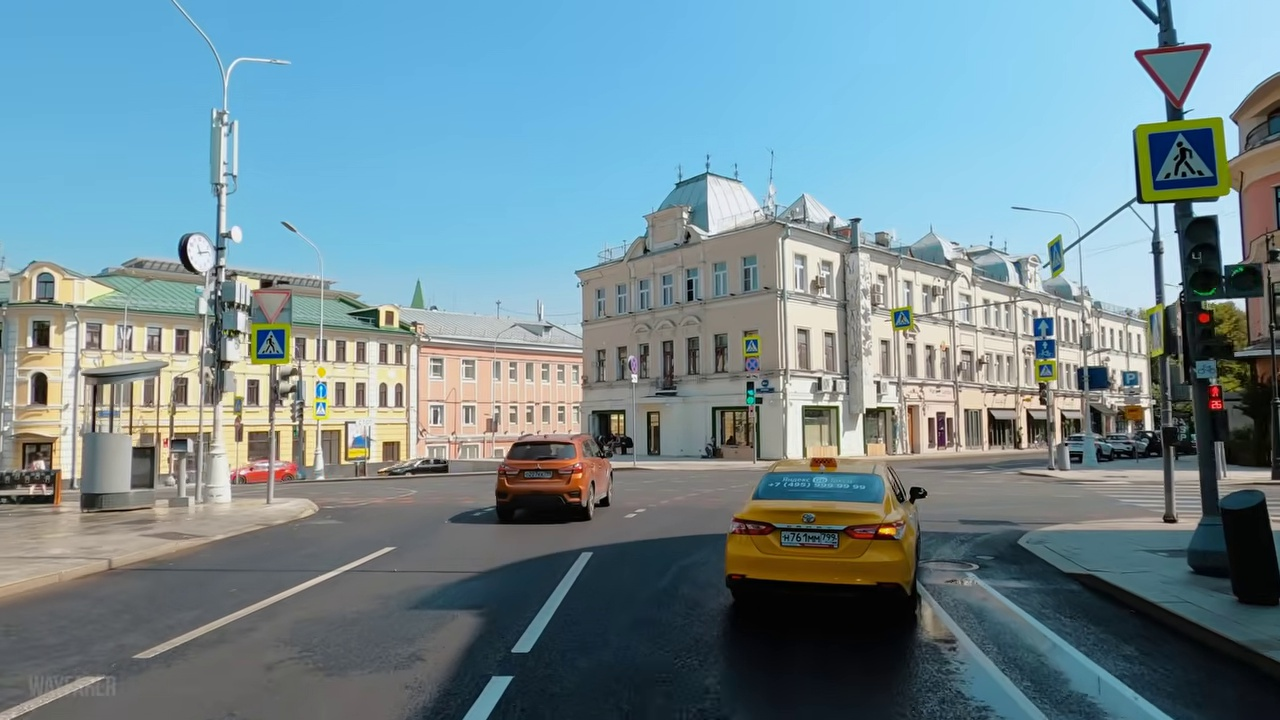apagada: (268, 211, 304, 241)
